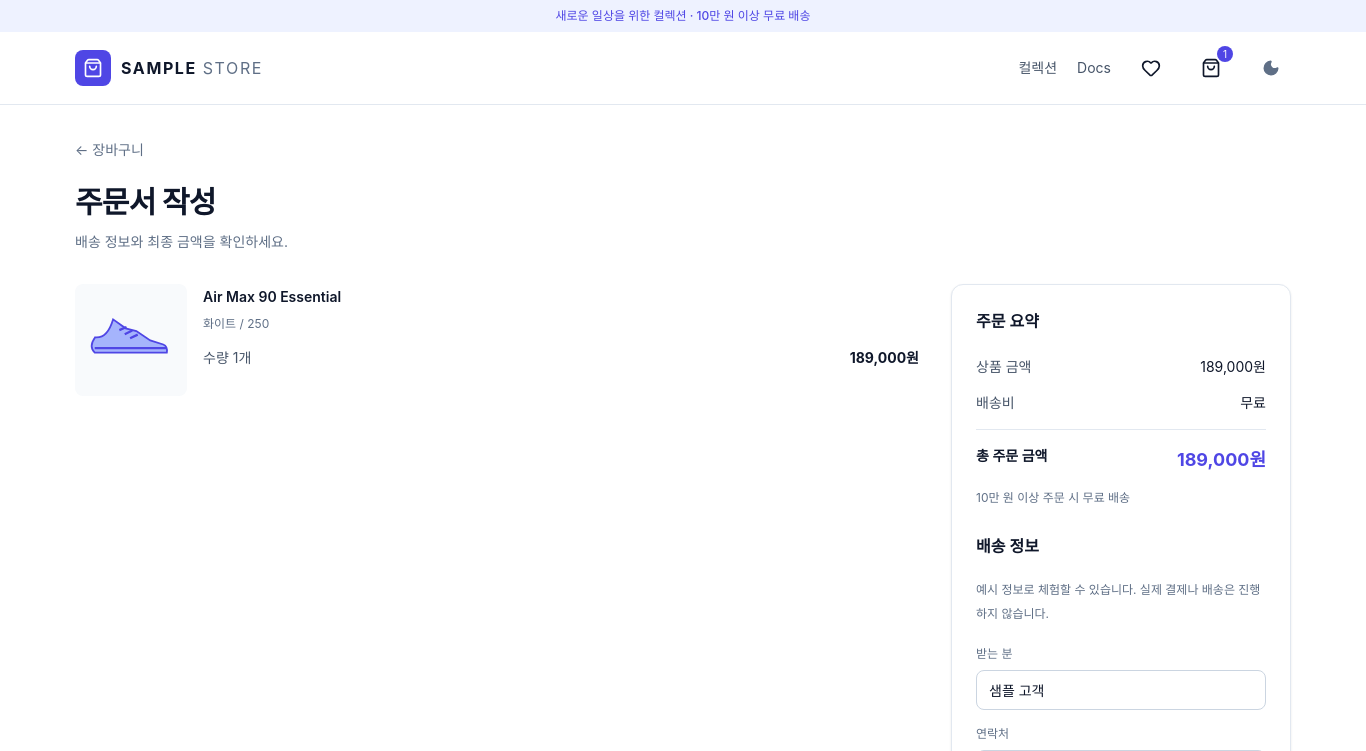
it: 주문 실패 시 배송 정보와 장바구니를 유지하고 재시도한다
Replace the text in the field labelled "받는 분" with "테스트 고객" at (1121, 690), box [976, 670, 1266, 710]
(page scrolled)
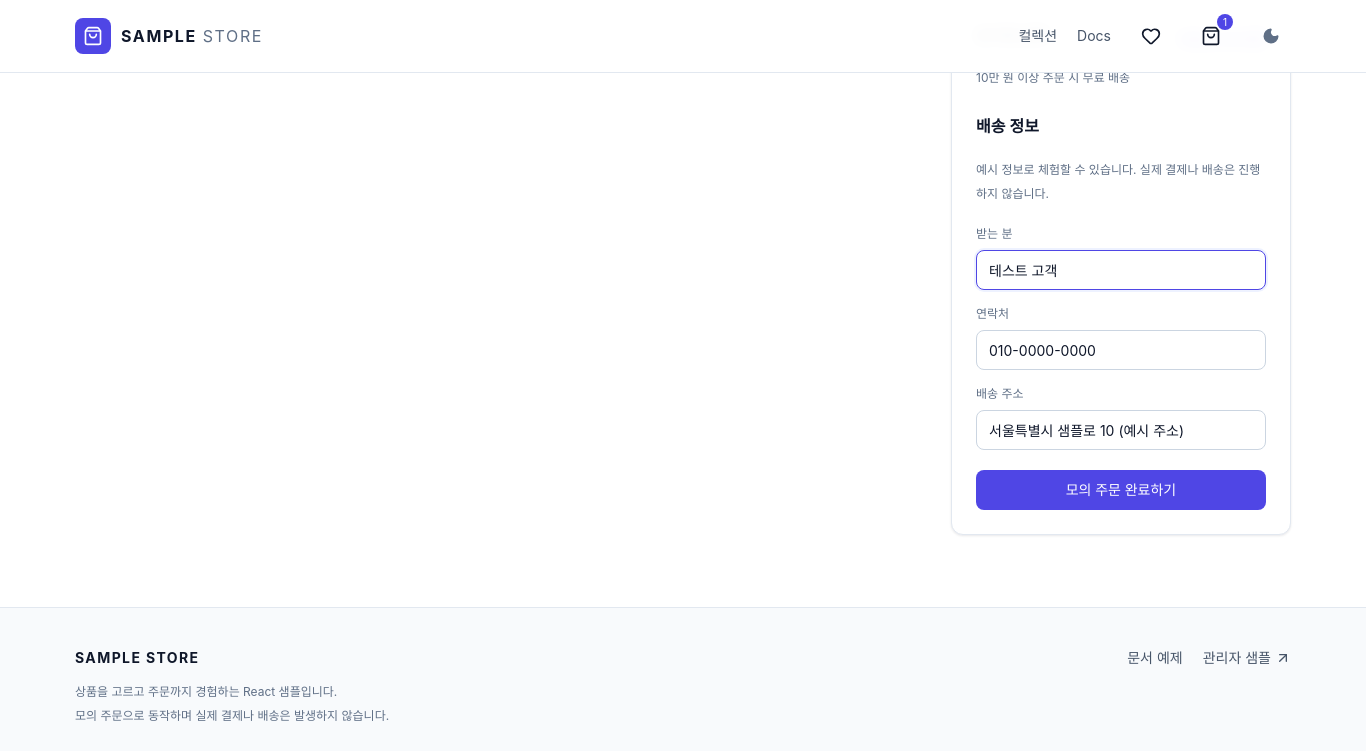
Click the button "모의 주문 완료하기" at (1121, 490), box [976, 470, 1266, 510]
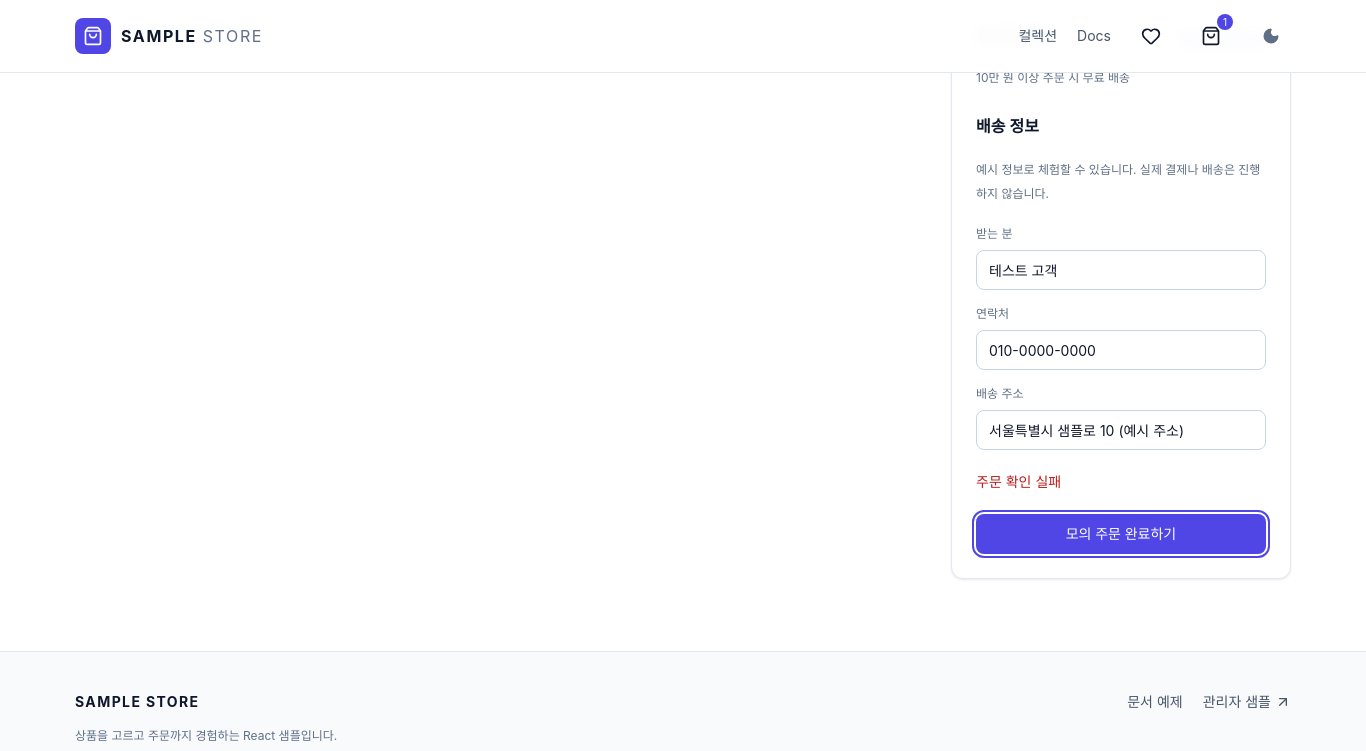
Result: the message reads "주문 확인 실패" at [976, 473, 1061, 490]
Click the button "모의 주문 완료하기" at (1121, 534), box [976, 514, 1266, 554]
(page scrolled)
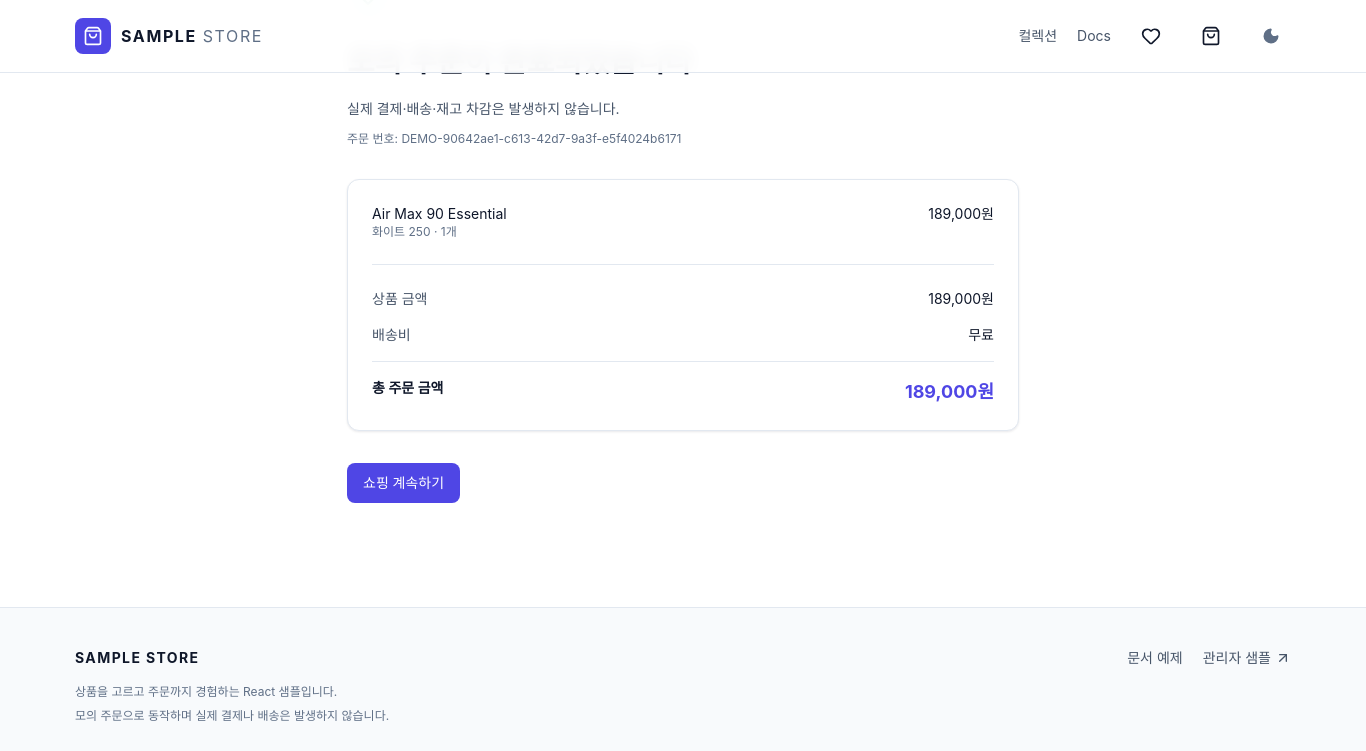
Result: the heading "모의 주문이 완료되었습니다" is shown at [347, 43, 692, 79]
